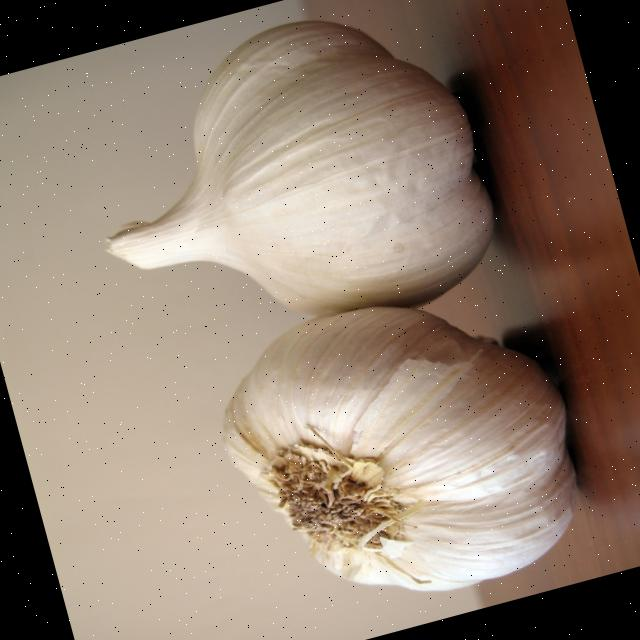garlic: (106, 20, 491, 315), (223, 307, 574, 590)
